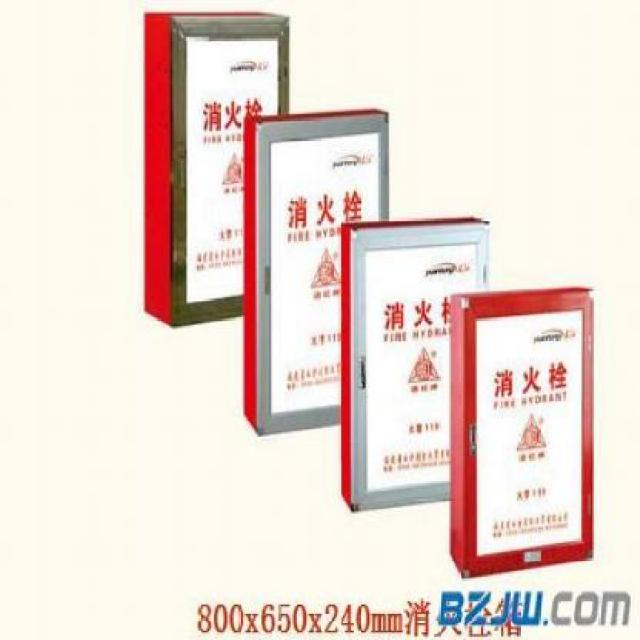firehydrant: (240, 102, 392, 439), (140, 5, 292, 337), (337, 211, 494, 521), (445, 281, 599, 587)
